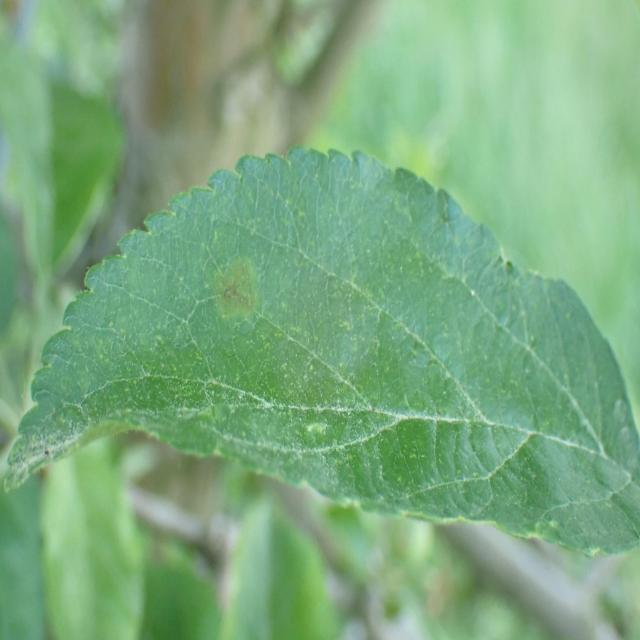scab: (80, 180, 488, 527)
